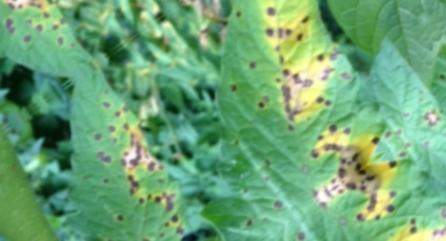Tomato Septoria leaf spot: (122, 0, 423, 241), (8, 62, 239, 241)
